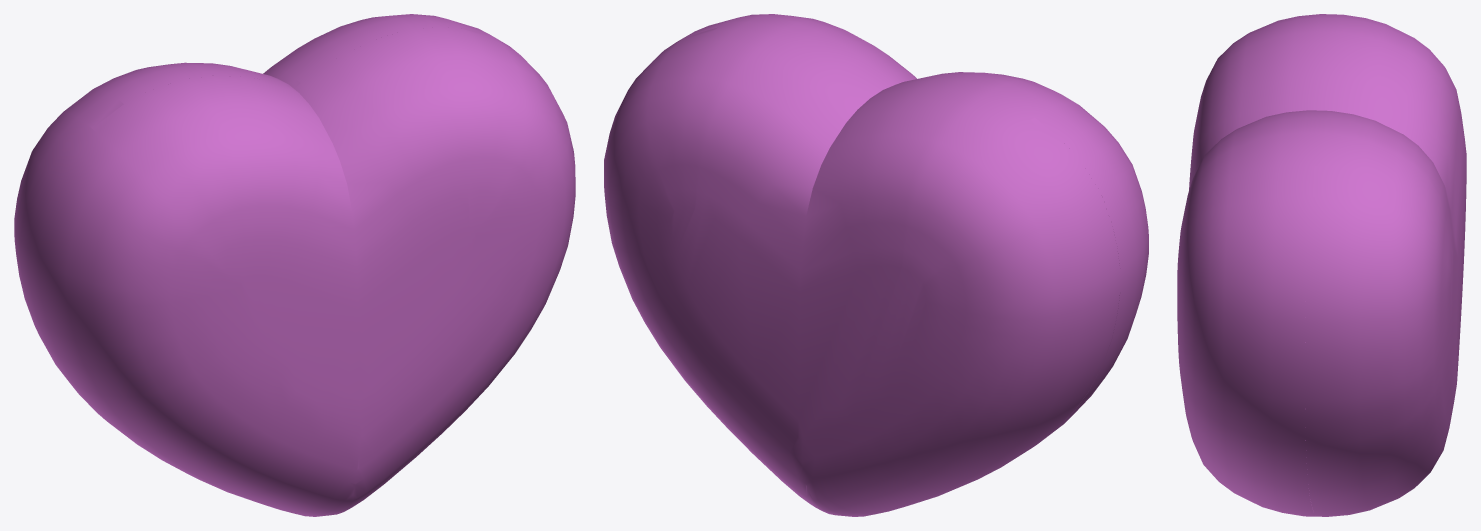
The model's file is heart.glb.
The picture shows the model from 3 angles, left to right: view 1: azimuth 30°, elevation 25°; view 2: azimuth 150°, elevation 25°; view 3: azimuth 270°, elevation 25°; orthographic projection. The views are drawn at different scales.
Parts seen in each view (by area): view 1: Layer0_001; view 2: Layer0_001; view 3: Layer0_001.
Part boxes in pixels (x1,y1,x2,y2): Layer0_001: [14, 14, 575, 516]; Layer0_001: [604, 14, 1148, 516]; Layer0_001: [1177, 14, 1466, 516].
Size of the model in its own units: 4 by 3.37 by 2.05.
